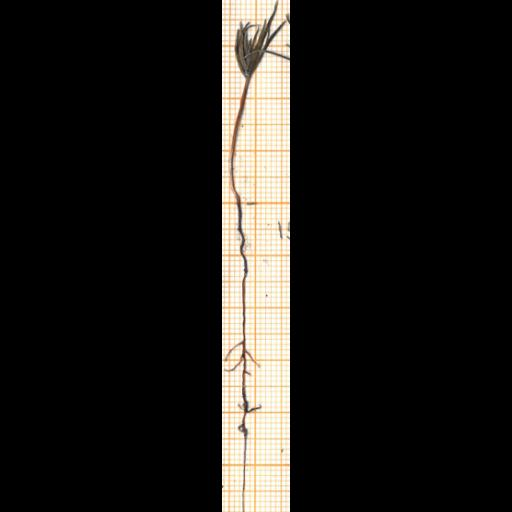flowerPinus: (235, 0, 289, 78)
rootPinus: (225, 201, 259, 511)
stemPinus: (229, 77, 249, 204)
